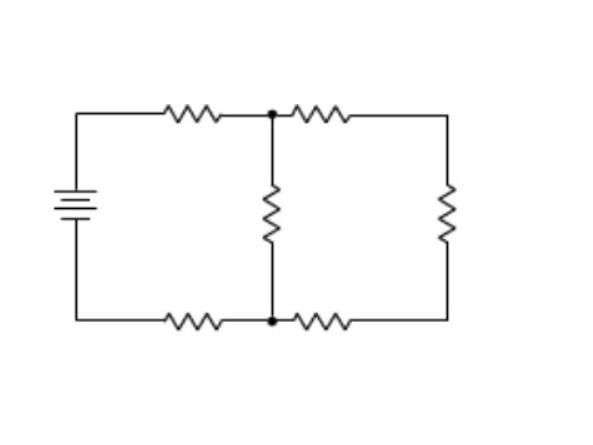resistor: (412, 163, 487, 260), (252, 160, 295, 275), (146, 302, 240, 347), (152, 89, 239, 128), (283, 89, 359, 133), (280, 302, 365, 335)
